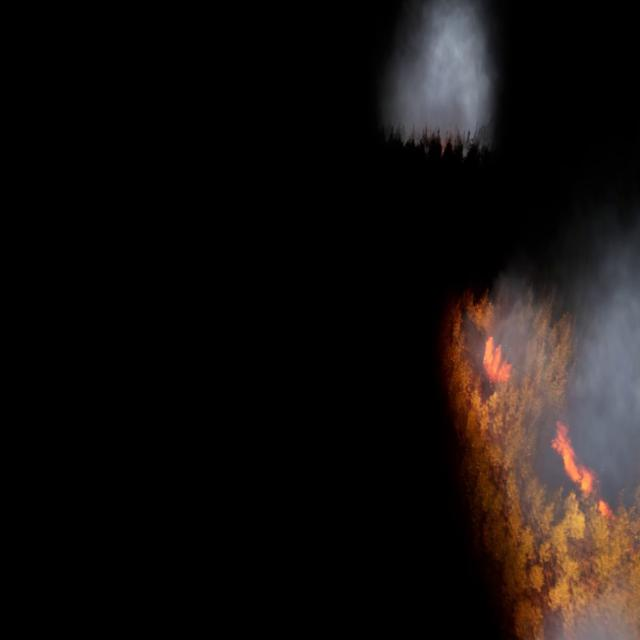fire: (440, 290, 640, 639)
smoke: (470, 228, 640, 639), (378, 0, 511, 157)
